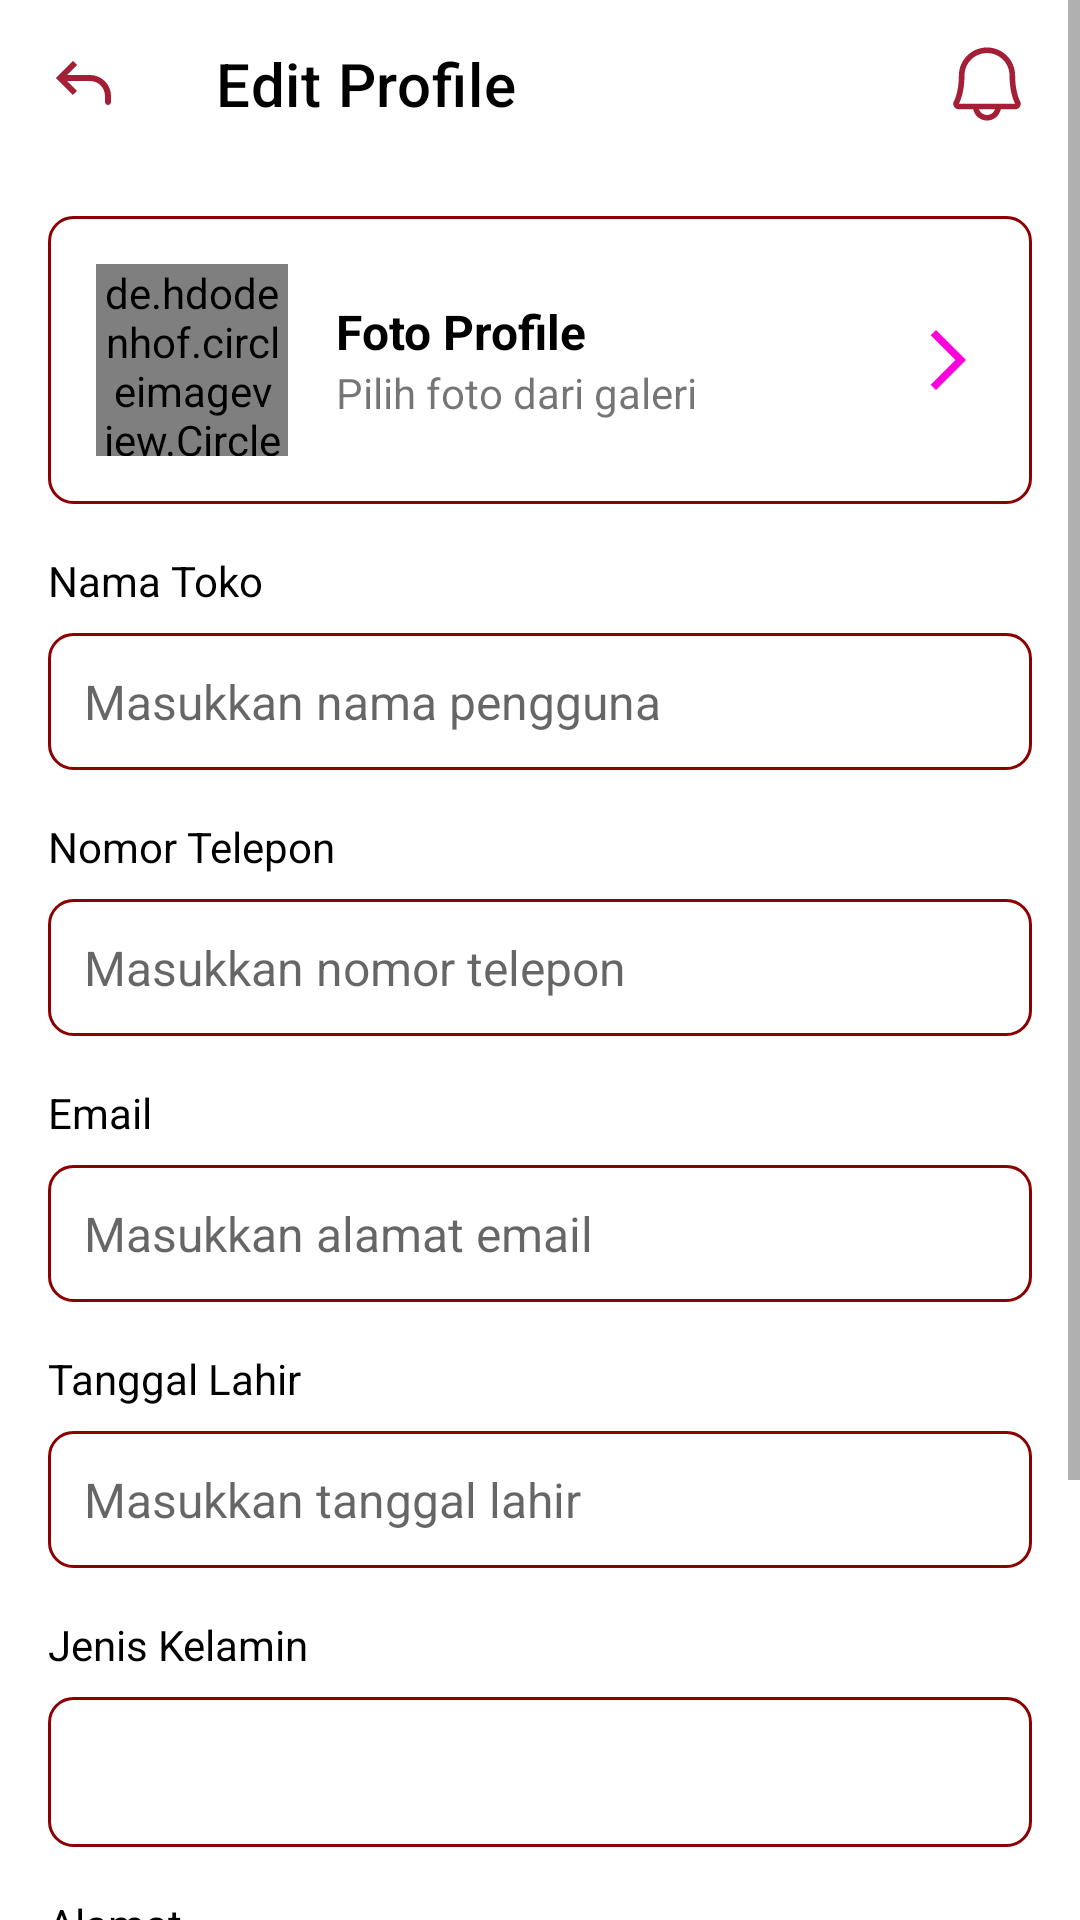

Locate icon controls on the screen. Image size 1080 x 1920, boxes as (x1, y1, x2, y2).
Notifikasi: (953, 47, 1021, 121)
panah: (931, 330, 966, 390)
